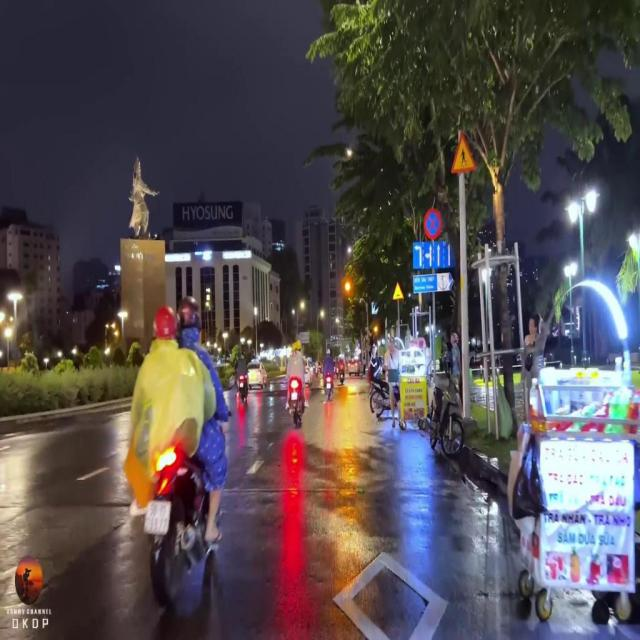cam_dung_xe_va_do_xe: (422, 208, 442, 242)
chu_y_nguoi_di_bo_cat_ngang: (450, 130, 479, 175)
huong_di_tren_moi_lan_duong_theo_vach_ke_duong: (412, 240, 456, 268)
khac: (414, 272, 454, 294)
